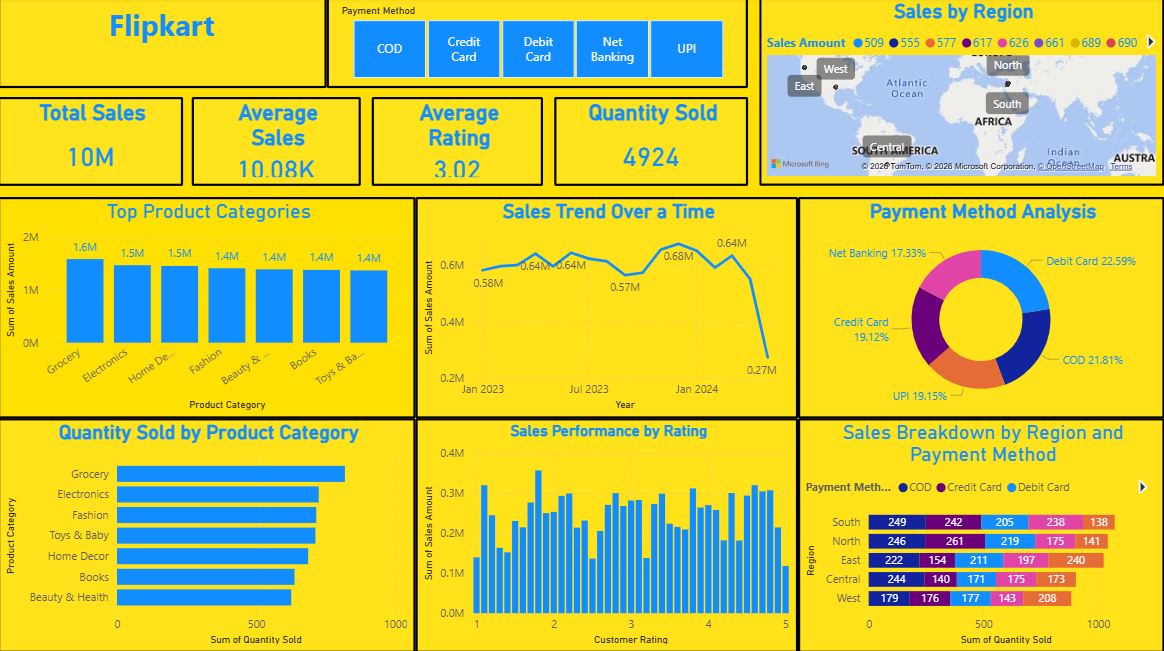

The dashboard page shown, as its layout file describes it:
{"tool":"powerbi","page":{"name":"Page 1","canvas":[1280,720],"ordinal":0},"visuals":[{"type":"card","title":"Total Sales","fields":{"Values":["Sum(Flipkart Data sets.Sales Amount)"]},"box":[0,109.8,203.1,97.4],"z":0},{"type":"card","title":"Average Sales","fields":{"Values":["Avg(Flipkart Data sets.Sales Amount)"]},"box":[212.7,109.8,185.2,97.4],"z":1000},{"type":"card","title":"Average Rating","fields":{"Values":["Avg(Flipkart Data sets.Customer Rating)"]},"box":[410.3,109.8,188,97.4],"z":2000},{"type":"card","title":"Quantity Sold","fields":{"Values":["Sum(Flipkart Data sets.Quantity Sold)"]},"box":[610.6,109.8,212.7,97.4],"z":3000},{"type":"map","title":" Sales by Region","fields":{"Series":["Flipkart Data sets.Sales Amount"],"Category":["Flipkart Data sets.Region"]},"box":[835.7,0,444.6,207.2],"z":4000},{"type":"columnChart","title":"Top Product  Categories","fields":{"Category":["Flipkart Data sets.Product Category"],"Y":["Sum(Flipkart Data sets.Sales Amount)"]},"box":[0,219.6,458.3,242.9],"z":5000},{"type":"donutChart","title":"Payment Method Analysis","fields":{"Category":["Flipkart Data sets.Payment Method"],"Y":["Sum(Flipkart Data sets.Sales Amount)"]},"box":[878.2,219.6,402.1,242.9],"z":6000},{"type":"clusteredBarChart","title":"Quantity Sold by Product Category","fields":{"Category":["Flipkart Data sets.Product Category"],"Y":["Sum(Flipkart Data sets.Quantity Sold)"]},"box":[0,462.4,458.3,258],"z":7000},{"type":"clusteredColumnChart","title":"Sales Performance  by Rating","fields":{"Category":["Flipkart Data sets.Customer Rating"],"Y":["Sum(Flipkart Data sets.Sales Amount)"]},"box":[458.3,462.4,419.9,258],"z":8000},{"type":"barChart","title":"Sales Breakdown by Region and Payment Method","fields":{"Category":["Flipkart Data sets.Region"],"Series":["Flipkart Data sets.Payment Method"],"Y":["Sum(Flipkart Data sets.Quantity Sold)"]},"box":[878.2,462.4,402.1,258],"z":9000},{"type":"textbox","box":[0,0,360.9,100.2],"z":10000},{"type":"lineChart","title":"Sales Trend Over a Time","fields":{"Category":["Flipkart Data sets.Order Date.Variation.Date Hierarchy.Year","Flipkart Data sets.Order Date.Variation.Date Hierarchy.Quarter","Flipkart Data sets.Order Date.Variation.Date Hierarchy.Month","Flipkart Data sets.Order Date.Variation.Date Hierarchy.Day"],"Y":["Sum(Flipkart Data sets.Sales Amount)"]},"box":[458.3,219.6,419.9,242.9],"z":11000},{"type":"slicer","fields":{"Values":["Flipkart Data sets.Payment Method"]},"box":[360.9,0,462.4,100.2],"z":12000}]}

Visuals, with their boxes in screenshot pixels (x1, y1, x2, y2), scaled from the page's 1280x720 canvas onto the 1164x651 screenshot:
"Total Sales" card: (left=0, top=99, right=185, bottom=187)
"Average Sales" card: (left=193, top=99, right=362, bottom=187)
"Average Rating" card: (left=373, top=99, right=544, bottom=187)
"Quantity Sold" card: (left=555, top=99, right=749, bottom=187)
" Sales by Region" map: (left=760, top=0, right=1163, bottom=187)
"Top Product  Categories" columnChart: (left=0, top=199, right=417, bottom=418)
"Payment Method Analysis" donutChart: (left=799, top=199, right=1163, bottom=418)
"Quantity Sold by Product Category" clusteredBarChart: (left=0, top=418, right=417, bottom=650)
"Sales Performance  by Rating" clusteredColumnChart: (left=417, top=418, right=799, bottom=650)
"Sales Breakdown by Region and Payment Method" barChart: (left=799, top=418, right=1163, bottom=650)
textbox: (left=0, top=0, right=328, bottom=91)
"Sales Trend Over a Time" lineChart: (left=417, top=199, right=799, bottom=418)
slicer - Flipkart Data sets.Payment Method: (left=328, top=0, right=749, bottom=91)
